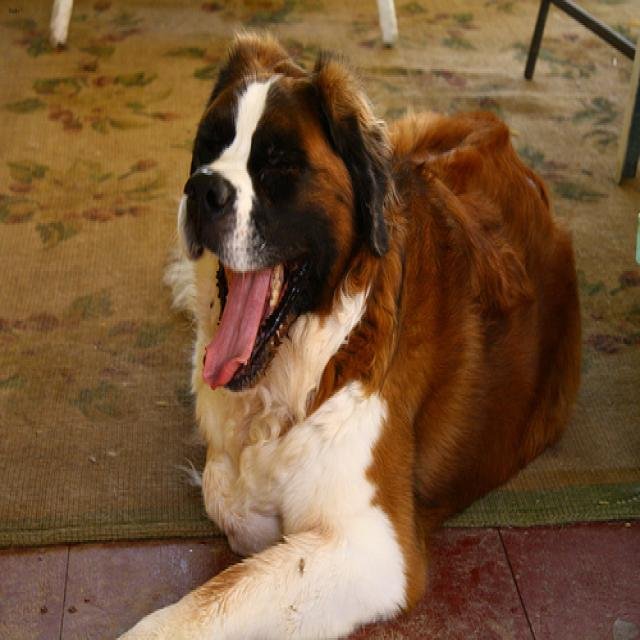dog-saint_bernard: (106, 25, 590, 636)
